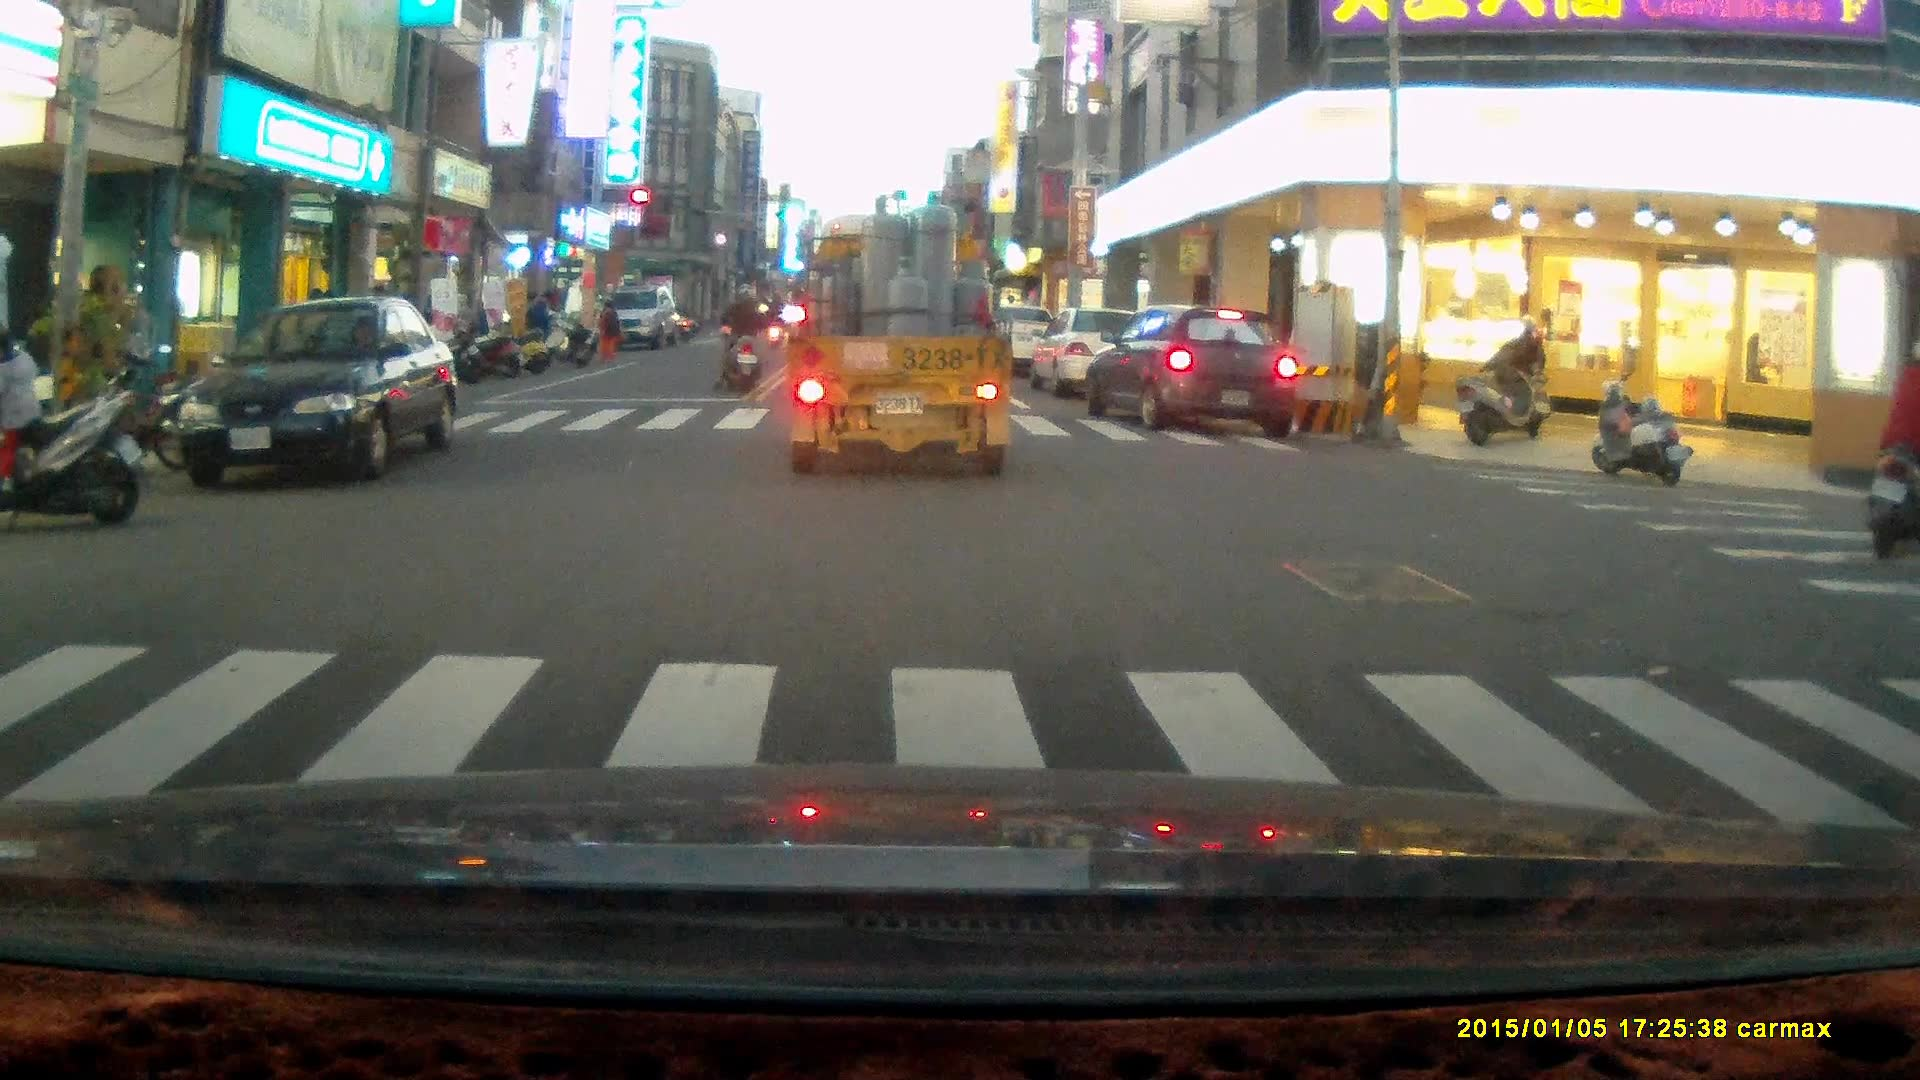pedestrian: (0, 330, 45, 489), (526, 285, 556, 357), (598, 295, 619, 359)
rider: (1866, 333, 1920, 565), (1489, 312, 1551, 441), (709, 278, 767, 396)
vehicle: (784, 189, 1010, 477), (172, 293, 462, 488), (1078, 307, 1308, 433), (1032, 307, 1166, 400), (601, 281, 683, 345)
